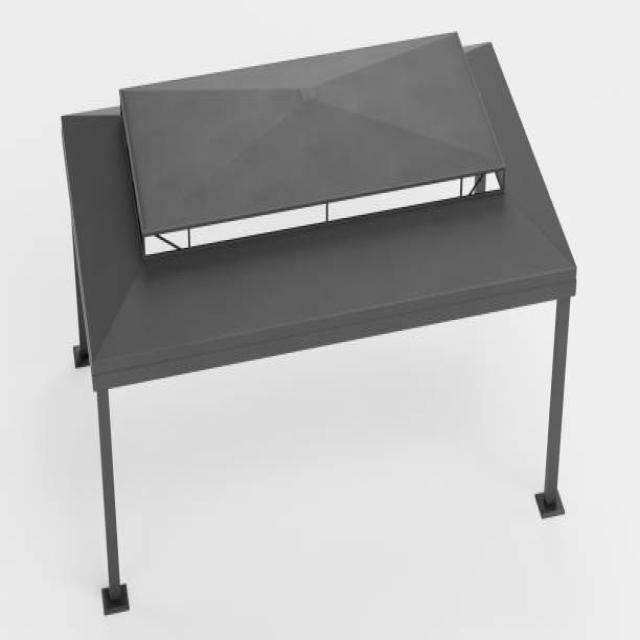table: (60, 30, 578, 615)
